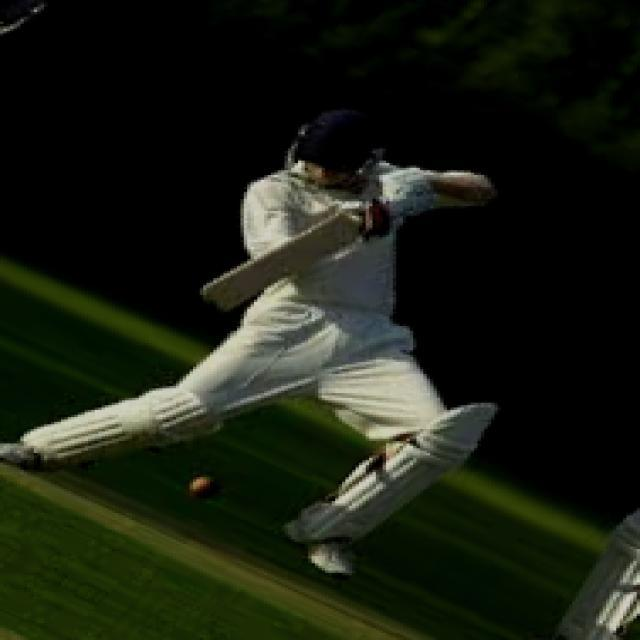bat: (193, 216, 364, 311)
toe: (194, 285, 236, 306)
